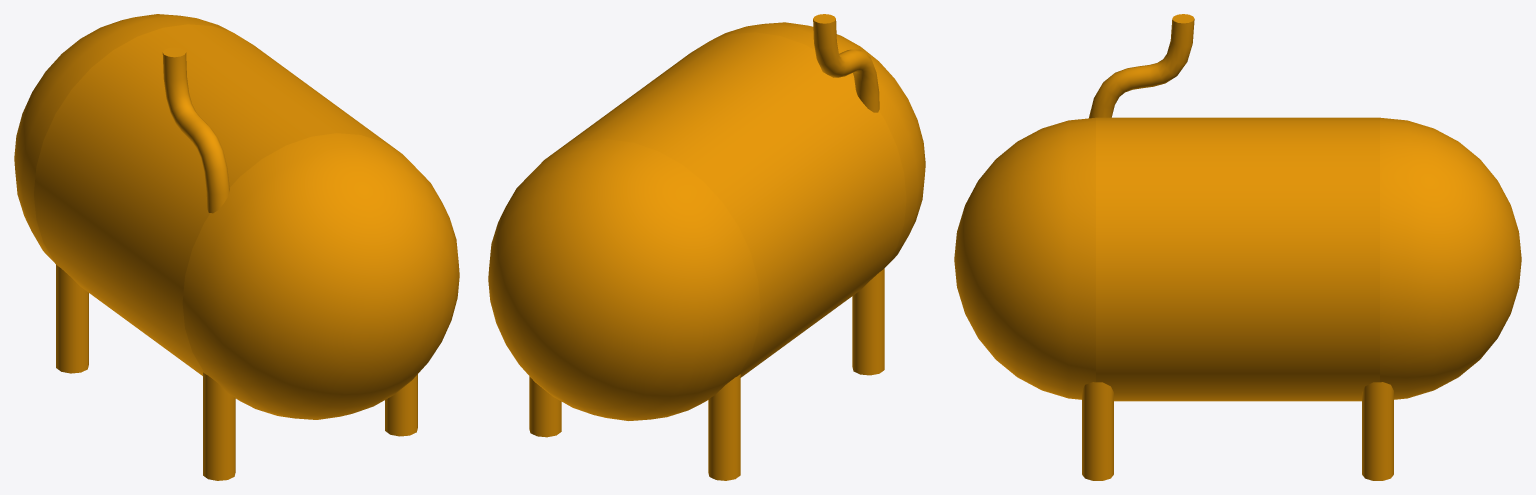
File: boiler.fbx
The picture shows the model from 3 angles, left to right: view 1: azimuth 30°, elevation 25°; view 2: azimuth 150°, elevation 25°; view 3: azimuth 270°, elevation 25°; orthographic projection. The views are drawn at different scales.
Parts seen in each view (by area): view 1: boiler; view 2: boiler; view 3: boiler.
Part boxes in pixels (x1,y1,x2,y2): boiler: [14, 14, 459, 480]; boiler: [488, 14, 925, 480]; boiler: [954, 14, 1521, 480].
Bounding box in the file's own units: 200 × 288 × 400.
